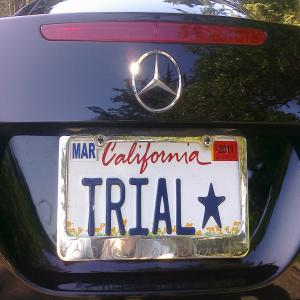Vehicle-registration-plate: (58, 128, 251, 262)
